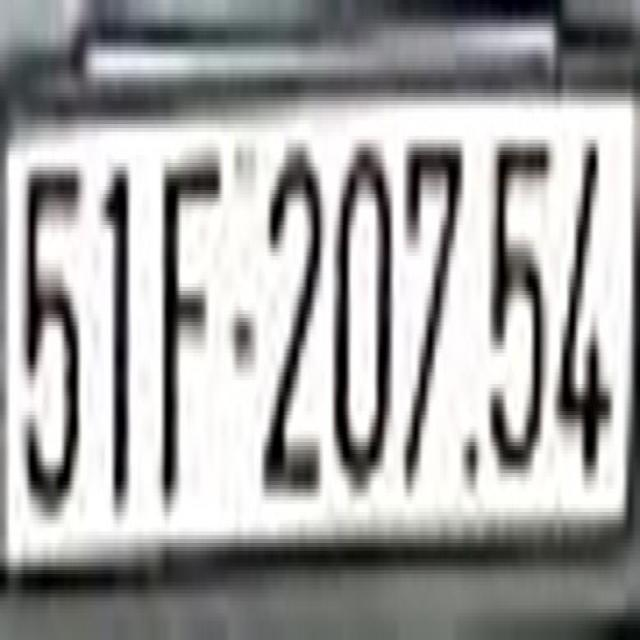0: (333, 151, 391, 473)
1: (107, 167, 135, 508)
2: (263, 136, 320, 477)
4: (559, 136, 617, 462)
5: (493, 124, 544, 462), (28, 159, 77, 489)
7: (403, 136, 462, 473)
F: (163, 155, 222, 520)
